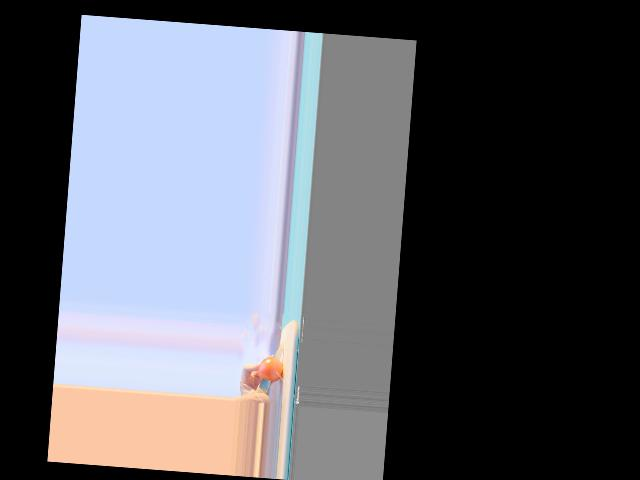tomato: (257, 355, 284, 383)
